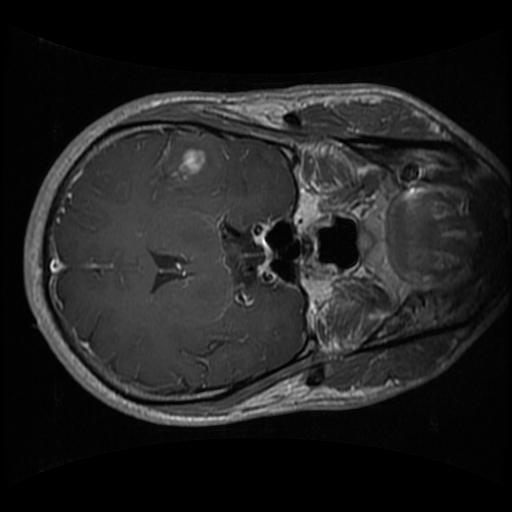glioma: (151, 132, 209, 195)
